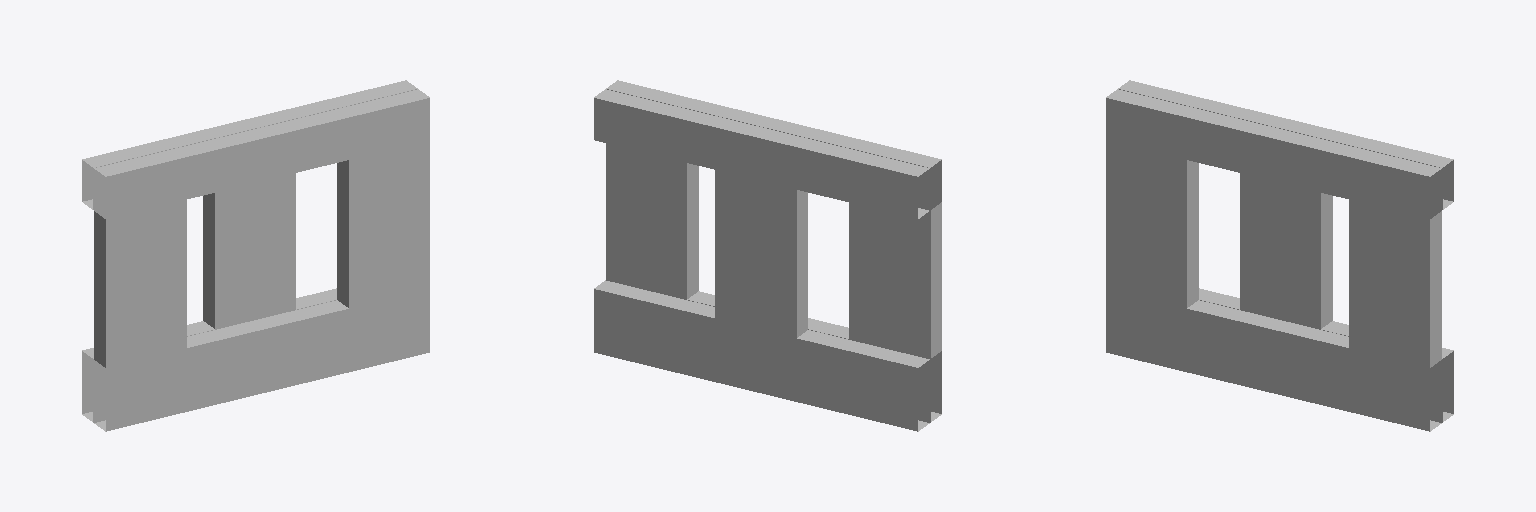
Rendered from Casey5NoMat.obj.
3 renders of one model, left to right at view 1: azimuth 30°, elevation 25°; view 2: azimuth 150°, elevation 25°; view 3: azimuth 330°, elevation 25°, orthographic.
Visible parts, largest first — view 1: Plane.001_Plane.002; view 2: Plane.001_Plane.002; view 3: Plane.001_Plane.002.
Boxes of the visible parts, x1,y1,x2,y2 form: Plane.001_Plane.002: [82, 80, 429, 431]; Plane.001_Plane.002: [594, 80, 941, 431]; Plane.001_Plane.002: [1106, 80, 1453, 431].
Bounding box in the file's own units: 16 × 12 × 2.04.